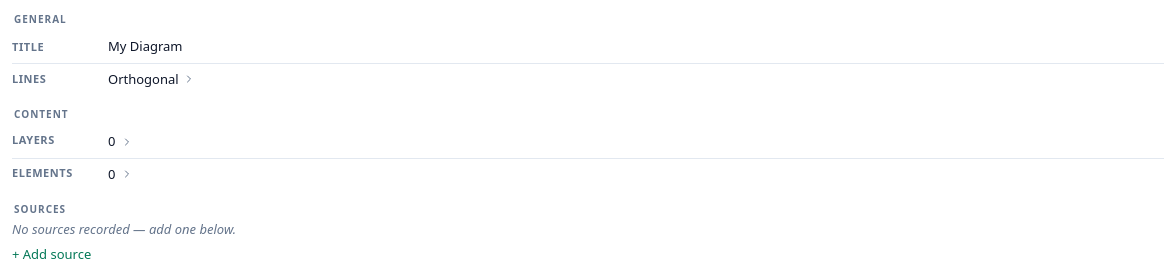
Test: DIAG-3.13-32: DiagramProperties — default line algorithm dropdown › clicking the dropdown opens algorithm options
Click the button "Orthogonal" at (151, 79), box [108,70,195,89]
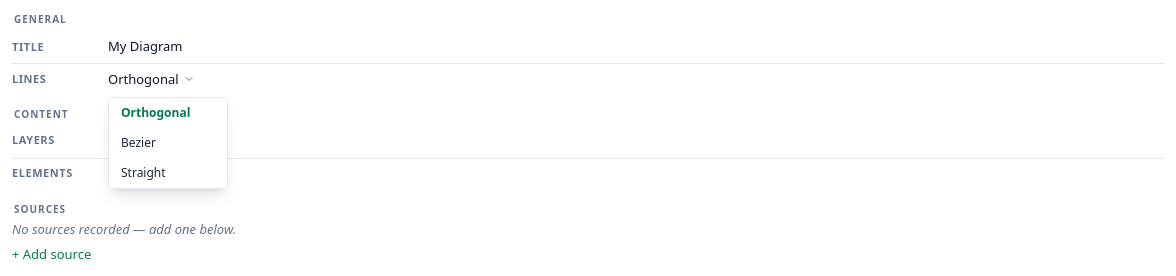
Now the button "Bezier" is shown, box [109,128,227,158]
Now the button "Straight" is shown, box [109,158,227,188]
